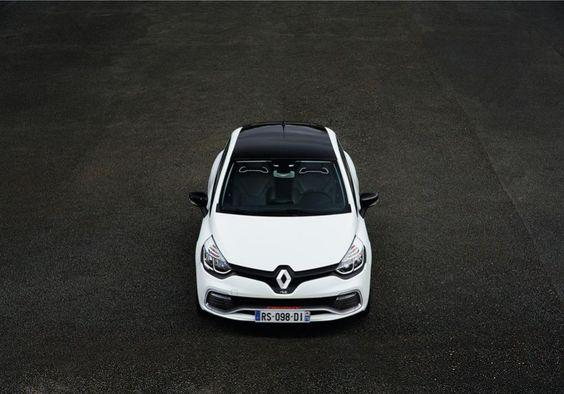Renault: (269, 263, 297, 296)
